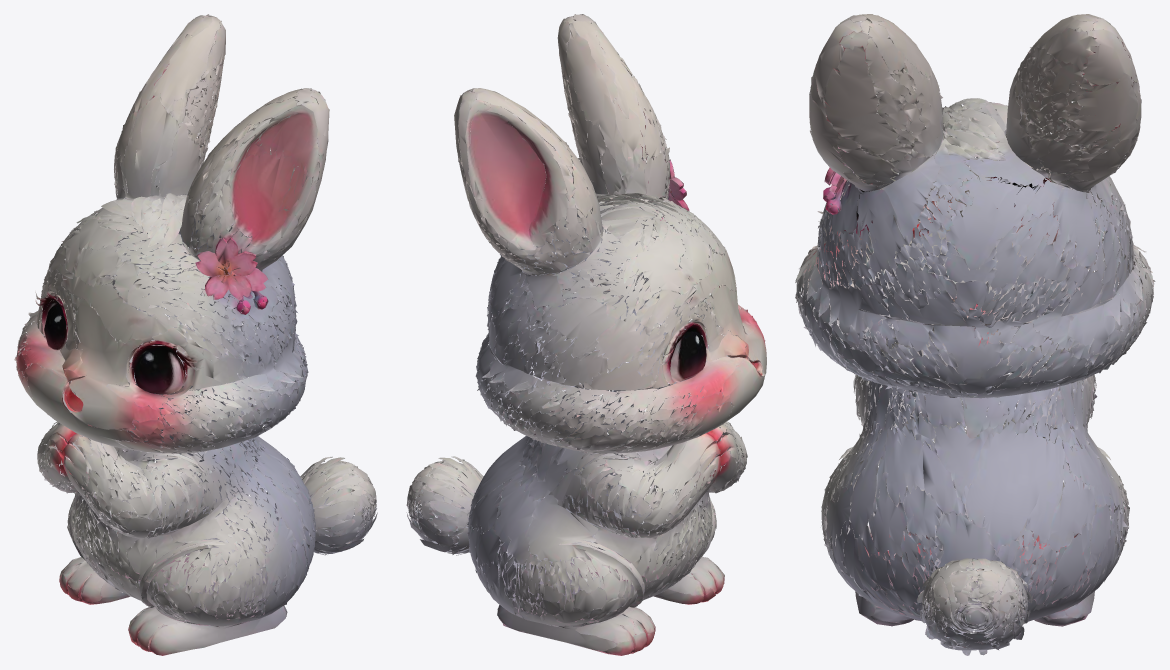
Rendered from pet-bunny.glb.
The picture shows the model from 3 angles, left to right: view 1: azimuth 30°, elevation 25°; view 2: azimuth 150°, elevation 25°; view 3: azimuth 270°, elevation 25°; orthographic projection. The views are drawn at different scales.
Parts seen in each view (by area): view 1: pet-bunny; view 2: pet-bunny; view 3: pet-bunny.
Boxes of the visible parts, <box> form: pet-bunny: <box>14,14,377,655</box>; pet-bunny: <box>406,14,766,655</box>; pet-bunny: <box>795,14,1155,655</box>.
Size of the model in its own units: 0.7007 by 1.09 by 0.5765.
1 material, 1 textured.
